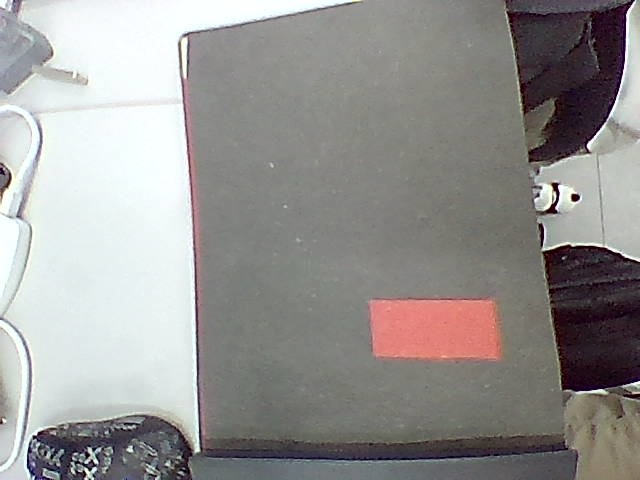card: (371, 299, 501, 360)
